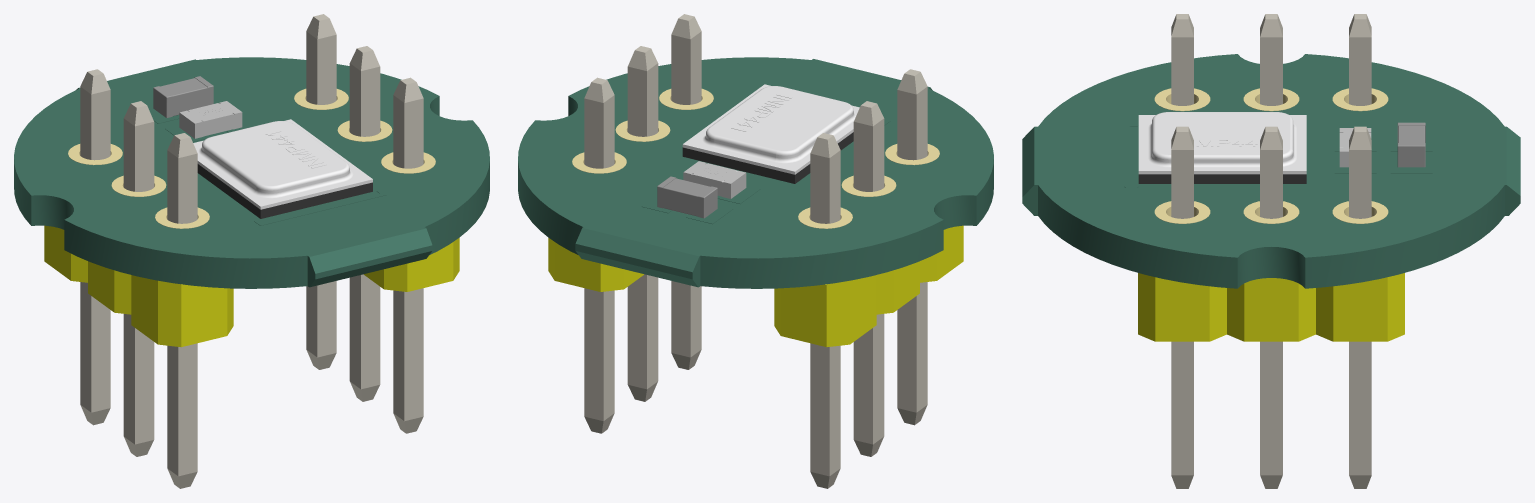
Rendered from INMP441 I2S Microphone Module v15.glb.
3 views of the same model, side by side, from view 1: azimuth 30°, elevation 25°; view 2: azimuth 150°, elevation 25°; view 3: azimuth 270°, elevation 25° (orthographic). The views are drawn at different scales.
Visible parts, largest first — view 1: empty_9, empty_18, empty_20, empty_23, empty_19, empty_21, empty_25, empty_22, empty_26, empty_24, empty_17, empty_6 (+8 smaller); view 2: empty_9, empty_18, empty_20, empty_26, empty_22, empty_21, empty_25, empty_19, empty_23, empty_24, empty_17, empty_6 (+7 smaller); view 3: empty_9, empty_24, empty_18, empty_23, empty_25, empty_26, empty_19, empty_21, empty_22, empty_17, empty_7, empty_11 (+5 smaller).
Boxes of the visible parts, left/top/right/bottom form: empty_9: left=14, top=57, right=489, bottom=288; empty_18: left=193, top=119, right=372, bottom=209; empty_20: left=44, top=225, right=233, bottom=347; empty_23: left=393, top=77, right=423, bottom=433; empty_19: left=167, top=133, right=197, bottom=488; empty_21: left=123, top=101, right=154, bottom=456; empty_25: left=349, top=46, right=380, bottom=401; empty_22: left=80, top=69, right=110, bottom=425; empty_26: left=306, top=14, right=336, bottom=369; empty_24: left=364, top=238, right=459, bottom=291; empty_17: left=197, top=164, right=372, bottom=218; empty_6: left=160, top=78, right=207, bottom=116; empty_9: left=518, top=57, right=993, bottom=288; empty_18: left=682, top=84, right=859, bottom=174; empty_20: left=774, top=225, right=963, bottom=347; empty_26: left=584, top=77, right=614, bottom=433; empty_22: left=810, top=133, right=840, bottom=488; empty_21: left=853, top=101, right=884, bottom=456; empty_25: left=627, top=46, right=658, bottom=401; empty_19: left=897, top=69, right=927, bottom=425; empty_23: left=671, top=14, right=701, bottom=369; empty_24: left=548, top=238, right=643, bottom=291; empty_17: left=682, top=132, right=853, bottom=183; empty_6: left=663, top=178, right=710, bottom=216; empty_9: left=1022, top=54, right=1520, bottom=288; empty_24: left=1138, top=273, right=1404, bottom=341; empty_18: left=1138, top=112, right=1306, bottom=174; empty_23: left=1171, top=126, right=1193, bottom=488; empty_25: left=1260, top=126, right=1282, bottom=488; empty_26: left=1349, top=126, right=1371, bottom=488; empty_19: left=1171, top=14, right=1193, bottom=105; empty_21: left=1260, top=14, right=1282, bottom=105; empty_22: left=1349, top=14, right=1371, bottom=105; empty_17: left=1138, top=174, right=1306, bottom=183; empty_7: left=1397, top=143, right=1425, bottom=167; empty_11: left=1332, top=201, right=1388, bottom=223.
Size of the model in its own units: 0.0138 by 0.0113 by 0.0142.
